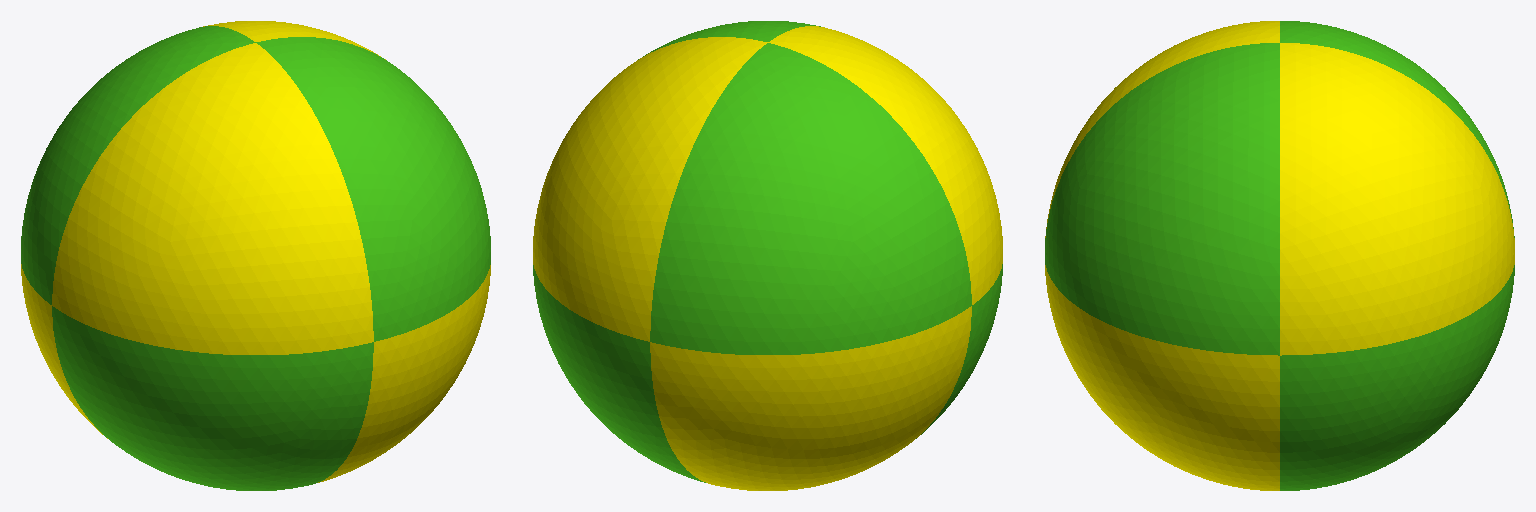
The model's file is testeBolaBr.obj.
3 views of the same model, side by side, from view 1: azimuth 30°, elevation 25°; view 2: azimuth 150°, elevation 25°; view 3: azimuth 270°, elevation 25° (orthographic).
Parts seen in each view (by area): view 1: Object.2, Object.8, Object.4, Object.1, Object.6, Object.7, Object.3; view 2: Object.1, Object.7, Object.3, Object.2, Object.5, Object.8, Object.4; view 3: Object.3, Object.4, Object.5, Object.6, Object.1, Object.2.
Boxes of the visible parts, box(x1,y1,x2,y2) form: Object.2: box(52, 43, 373, 354); Object.8: box(52, 306, 373, 490); Object.4: box(256, 37, 490, 341); Object.1: box(21, 26, 255, 304); Object.6: box(318, 265, 490, 482); Object.7: box(21, 264, 107, 438); Object.3: box(203, 21, 385, 59); Object.1: box(650, 43, 971, 354); Object.7: box(650, 306, 971, 490); Object.3: box(533, 37, 767, 341); Object.2: box(768, 26, 1002, 304); Object.5: box(533, 265, 705, 482); Object.8: box(916, 264, 1002, 438); Object.4: box(638, 21, 820, 59); Object.3: box(1280, 43, 1514, 355); Object.4: box(1045, 43, 1279, 355); Object.5: box(1280, 265, 1514, 490); Object.6: box(1045, 265, 1279, 490); Object.1: box(1280, 21, 1514, 237); Object.2: box(1045, 21, 1279, 237).
Bounding box in the file's own units: 40 × 40 × 40.